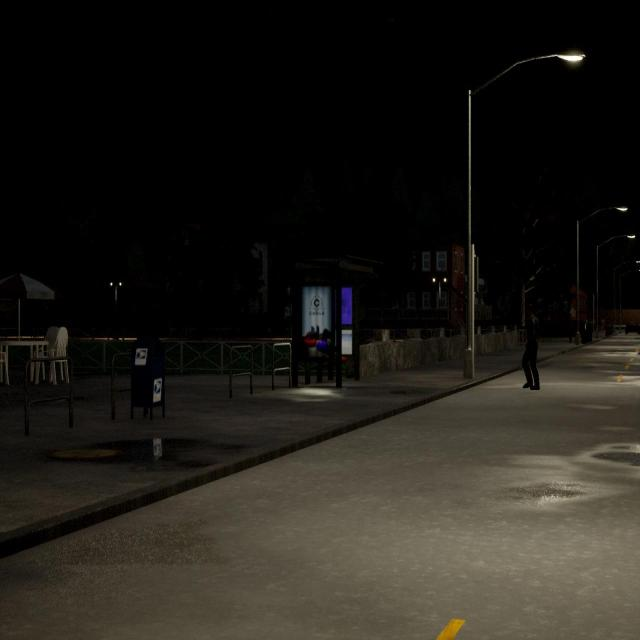Pedestrian: (516, 304, 544, 392)
Vehicle: (624, 316, 640, 339)
traffic_light: (468, 254, 481, 298)
